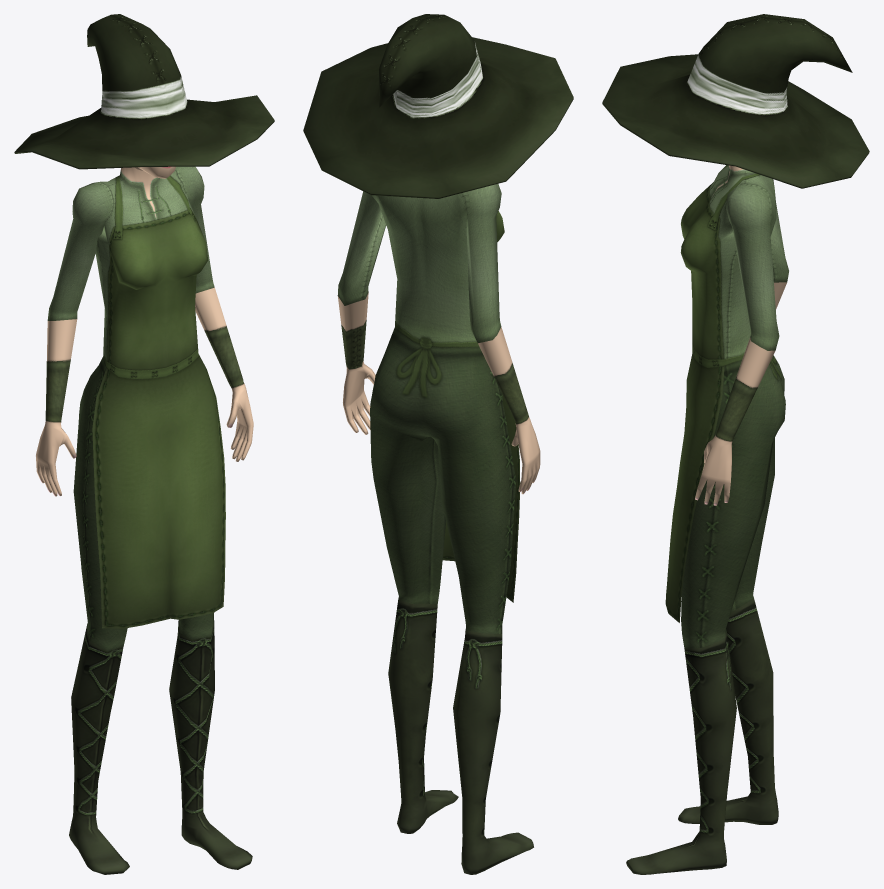
Rendered from apothecary.obj.
3 renders of one model, left to right at view 1: azimuth 30°, elevation 25°; view 2: azimuth 150°, elevation 25°; view 3: azimuth 270°, elevation 25°, orthographic. The views are drawn at different scales.
Parts seen in each view (by area): view 1: human_female_light_armor_3, human_female_light_helmet, human_female_light_boots_2, human_female_light_gloves_3; view 2: human_female_light_armor_3, human_female_light_helmet, human_female_light_boots_2, human_female_light_gloves_3; view 3: human_female_light_armor_3, human_female_light_helmet, human_female_light_boots_2, human_female_light_gloves_3.
Part boxes in pixels (bbox=[...]): human_female_light_armor_3: bbox=[47, 166, 225, 651]; human_female_light_helmet: bbox=[14, 14, 274, 169]; human_female_light_boots_2: bbox=[69, 620, 252, 874]; human_female_light_gloves_3: bbox=[36, 287, 253, 496]; human_female_light_armor_3: bbox=[337, 184, 520, 633]; human_female_light_helmet: bbox=[303, 14, 573, 198]; human_female_light_boots_2: bbox=[388, 600, 533, 874]; human_female_light_gloves_3: bbox=[338, 293, 540, 494]; human_female_light_armor_3: bbox=[665, 165, 788, 648]; human_female_light_helmet: bbox=[602, 14, 869, 188]; human_female_light_boots_2: bbox=[626, 599, 778, 874]; human_female_light_gloves_3: bbox=[695, 282, 786, 505].
Bounding box in the file's own units: 1.22 × 4.16 × 1.22.
